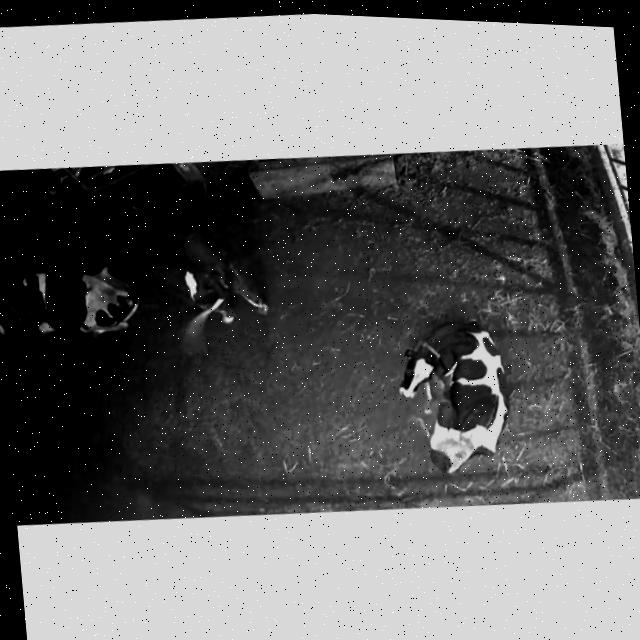lay: (374, 301, 520, 489), (0, 239, 140, 350)
